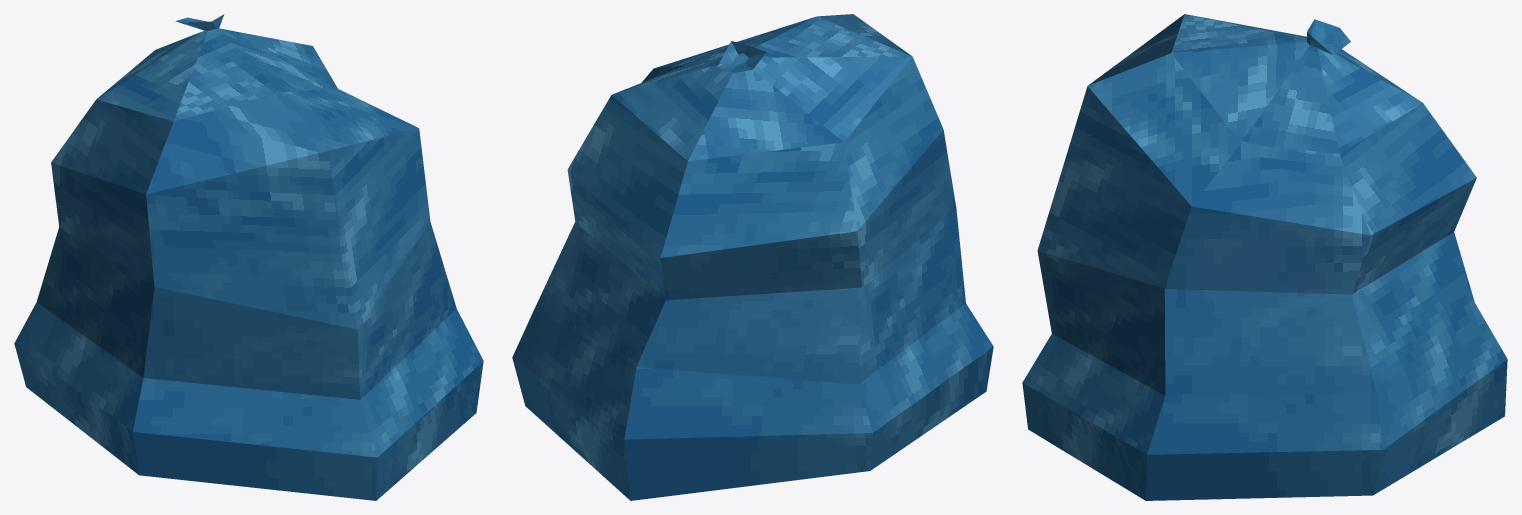
File: trashbag_1_blue.glb
3 views of the same model, side by side, from view 1: azimuth 30°, elevation 25°; view 2: azimuth 150°, elevation 25°; view 3: azimuth 270°, elevation 25° (orthographic). The views are drawn at different scales.
Visible parts, largest first — view 1: trashbag_1_blue; view 2: trashbag_1_blue; view 3: trashbag_1_blue.
Part boxes in pixels (x1,y1,x2,y2): trashbag_1_blue: (14,14,483,500); trashbag_1_blue: (512,14,993,500); trashbag_1_blue: (1022,14,1507,500).
Bounding box in the file's own units: 0.7709 × 0.8094 × 0.9171.
Materials: 1 (1 with a texture image).
